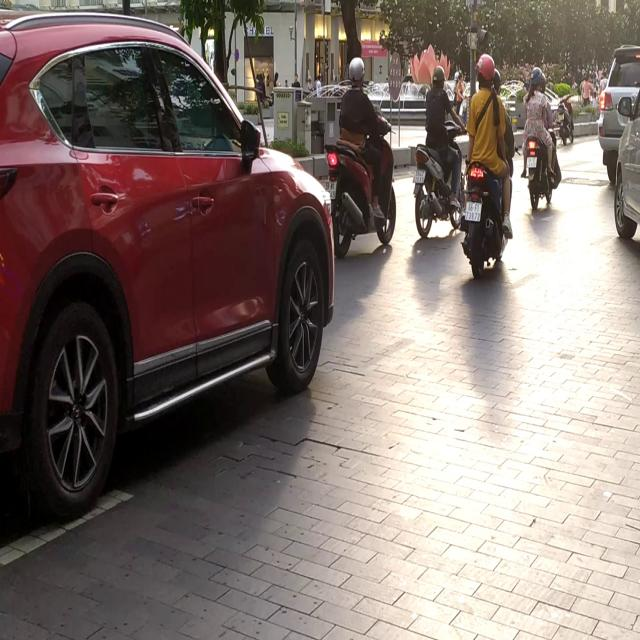bien_trang: (465, 193, 482, 224)
